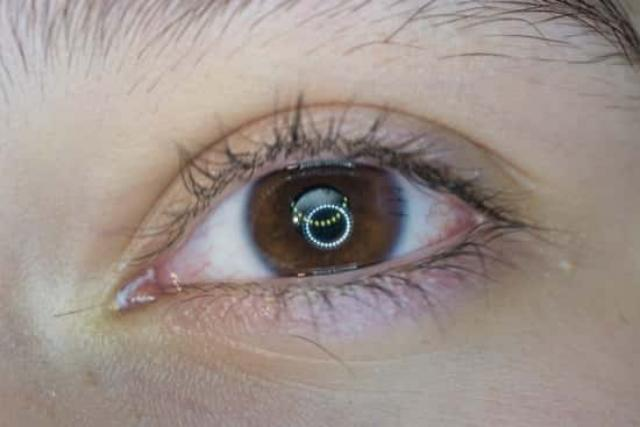eye: (242, 159, 410, 283)
